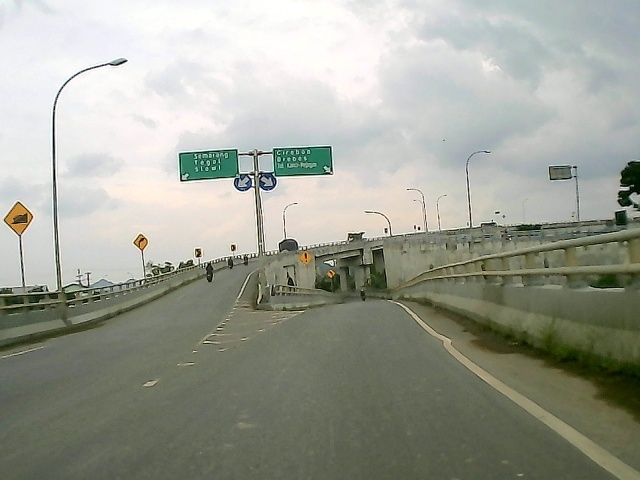Hati-hati: (299, 251, 314, 267)
Jalanan menanjak: (1, 201, 36, 237)
Tikungan ke kanan: (133, 231, 149, 253)
